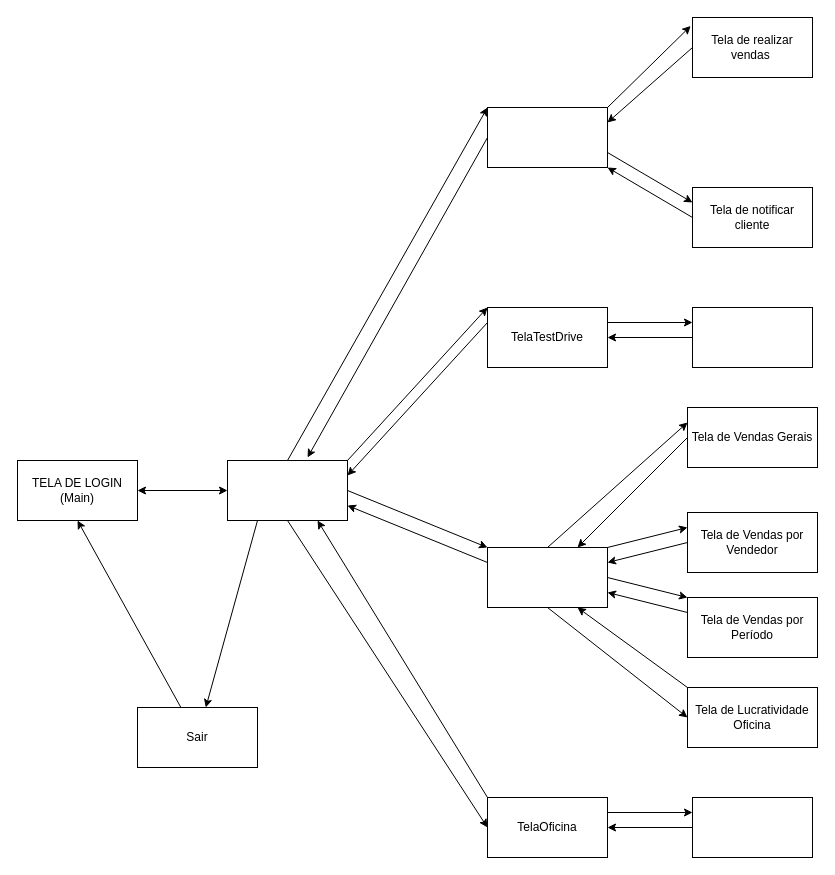
Some shapes in this 835 by 875 pixel diagram are drawn without their labels. The shapes that lost their labels are listed below. From the top down, each one's centre as x and y in pixels, then its label:
At point 547,137: "TelaVenda".
At point 752,337: "Tela de Agendar TestDrive".
At point 287,490: "MenuPrincipal".
At point 547,577: "TelaRelatorio".
At point 752,827: "Tela de Finalizar Ordem de Serviço".
